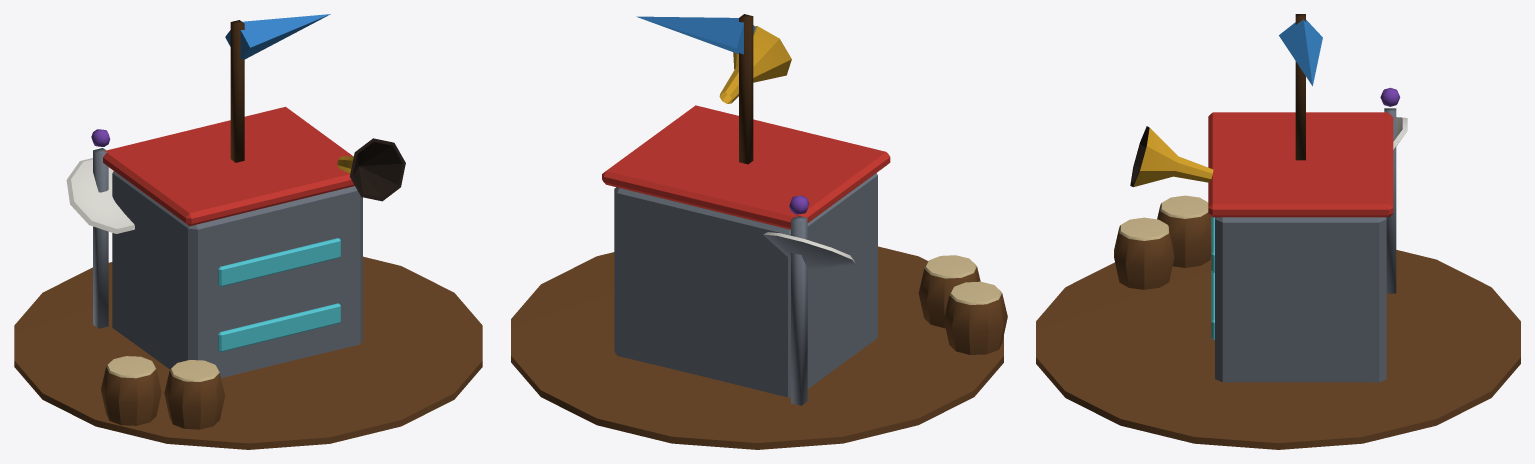
3 views of the same model, side by side, from view 1: azimuth 30°, elevation 25°; view 2: azimuth 150°, elevation 25°; view 3: azimuth 270°, elevation 25° (orthographic). The views are drawn at different scales.
Visible parts, largest first — view 1: vila_0_base, vila_1_torreta; view 2: vila_0_base, vila_1_torreta; view 3: vila_0_base, vila_1_torreta.
Boxes of the visible parts, x1,y1,x2,y2 form: vila_0_base: [14, 106, 482, 449]; vila_1_torreta: [225, 14, 330, 162]; vila_0_base: [511, 26, 1007, 449]; vila_1_torreta: [636, 14, 755, 164]; vila_0_base: [1036, 87, 1520, 449]; vila_1_torreta: [1279, 14, 1322, 160].
Size of the model in its own units: 1.32 by 0.98 by 1.3.
